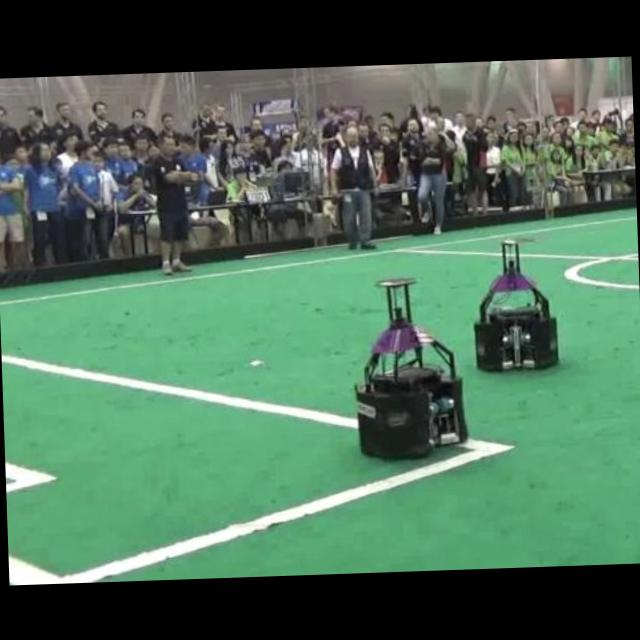robot: (356, 278, 465, 456), (474, 239, 556, 369)
